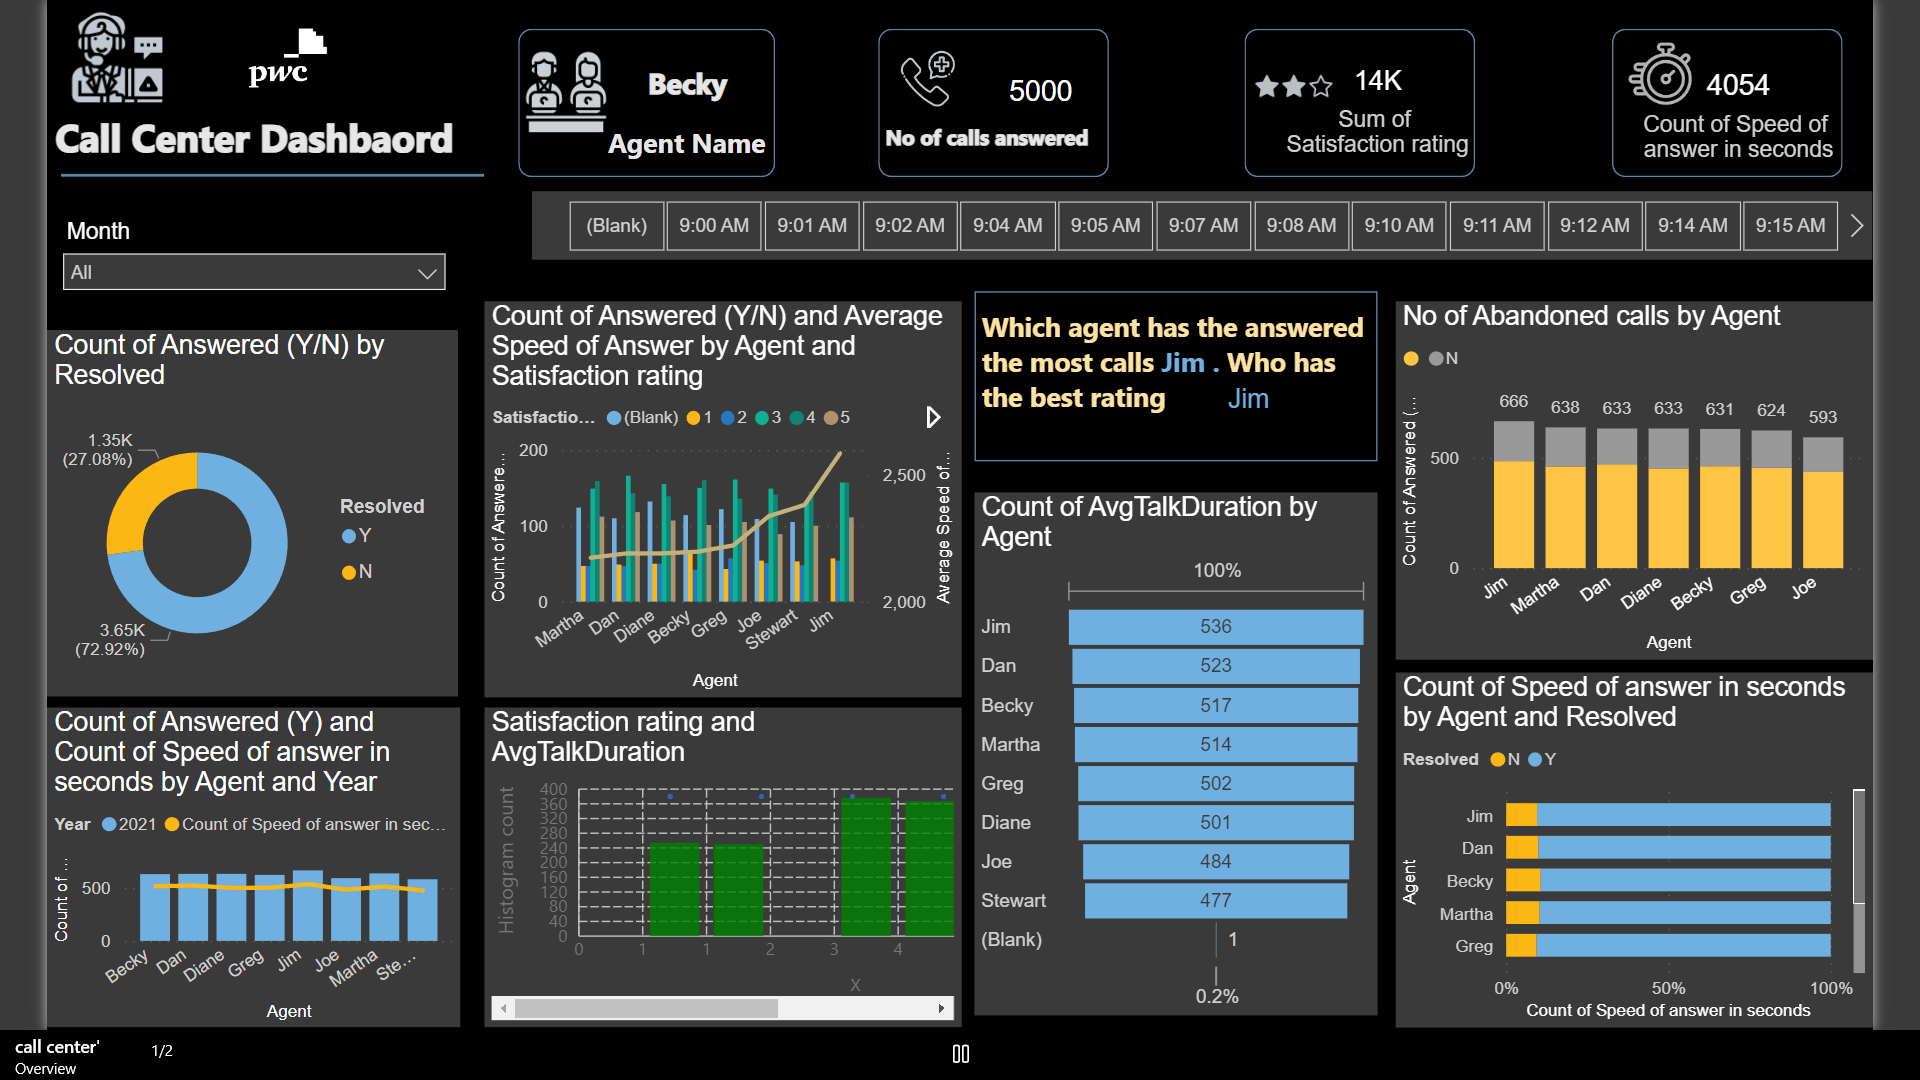

The page's visual inventory and layout, read from the dashboard file:
{"tool":"powerbi","page":{"name":"Overview","canvas":[1280,720],"ordinal":0},"visuals":[{"type":"donutChart","fields":{"Y":["CountNonNull(Sheet1.Answered (Y/N))"],"Category":["Sheet1.Resolved"]},"box":[0,231.6,288.2,256.9],"z":0},{"type":"lineStackedColumnComboChart","fields":{"Category":["Sheet1.Agent"],"Y":["CountNonNull(Sheet1.Answered (Y))"],"Series":["Sheet1.Date.Variation.Date Hierarchy.Year"],"Y2":["CountNonNull(Sheet1.Speed of answer in seconds)"]},"box":[0,495.7,289.4,224.3],"z":1000},{"type":"shape","box":[1096.3,20.5,161.6,103.7],"z":2000},{"type":"shape","box":[330.5,20.5,179.7,103.7],"z":3000},{"type":"shape","box":[582.5,20.5,161.6,103.7],"z":4000},{"type":"shape","box":[839.4,20.5,161.6,103.7],"z":5000},{"type":"card","fields":{"Values":["Min(Sheet1.Agent)"]},"box":[388.3,20.5,121.8,79.6],"z":6000},{"type":"textbox","box":[388.3,82,145.9,42.2],"z":7000},{"type":"image","box":[306.3,28.9,114.6,71.2],"z":8000},{"type":"card","fields":{"Values":["All measures.no of call answered"]},"box":[617.5,13.3,158,103.7],"z":9000},{"type":"image","box":[568,28.9,97.7,51.9],"z":10000},{"type":"textbox","box":[582.5,80.8,177.3,35],"z":11000},{"type":"card","fields":{"Values":["Sum(Sheet1.Satisfaction rating)"]},"box":[863.5,0,137.5,133.9],"z":12000},{"type":"image","box":[839.4,2.4,68.7,115.8],"z":13000},{"type":"card","fields":{"Values":["CountNonNull(Sheet1.Speed of answer in seconds)"]},"box":[1104.7,4.8,161.6,129],"z":14000},{"type":"image","box":[1074.6,22.9,111,57.9],"z":15000},{"type":"slicer","fields":{"Values":["Sheet1.Date.Variation.Date Hierarchy.Month"]},"box":[1.2,148.3,288.2,149.5],"z":16000},{"type":"lineClusteredColumnComboChart","fields":{"Category":["Sheet1.Agent"],"Y":["CountNonNull(Sheet1.Answered (Y/N))"],"Series":["Sheet1.Satisfaction rating"],"Y2":["All measures.Average Speed of Answer"]},"box":[306.3,211.1,334.1,277.4],"z":17000},{"type":"histogramXY6E3D5691159E41859A007A262D4B0E9E","fields":{"yAxis":["Sheet1.AvgTalkDuration"],"xAxis":["Sheet1.Satisfaction rating"]},"box":[306.3,495.7,334.1,224.3],"z":18000},{"type":"lineStackedColumnComboChart","title":"No of Abandoned calls by Agent","fields":{"Category":["Sheet1.Agent"],"Series":["Sheet1.Abandoned calls"],"Y":["CountNonNull(Sheet1.Answered (Y/N))"]},"box":[945.5,211.1,334.1,250.9],"z":19000},{"type":"hundredPercentStackedBarChart","fields":{"Category":["Sheet1.Agent"],"Y":["CountNonNull(Sheet1.Speed of answer in seconds)"],"Series":["Sheet1.Resolved"]},"box":[945.5,471.6,334.1,248.4],"z":20000},{"type":"shape","box":[650.1,203.8,282.2,119.4],"z":21000},{"type":"textbox","box":[650.1,211.1,282.2,218.3],"z":22000},{"type":"textbox","box":[822.5,264.1,282.2,224.3],"z":23000},{"type":"funnel","fields":{"Category":["Sheet1.Agent"],"Y":["CountNonNull(Sheet1.AvgTalkDuration)"]},"box":[650.1,344.9,282.2,366.6],"z":24000},{"type":"textbox","box":[1.2,72.4,300.3,48.2],"z":25000},{"type":"shape","box":[9.6,65.1,296.7,115.8],"z":26000},{"type":"image","box":[9.6,0,79.6,80.8],"z":27000},{"type":"slicer","fields":{"Values":["Sheet1.Time"]},"box":[340.1,133.9,939.5,48.2],"z":28000},{"type":"image","box":[126.6,0,84.4,80.8],"z":29000}]}

Visuals, with their boxes on the page's 1280x720 design canvas (x1, y1, x2, y2). These are canvas units, not pixel positions in the 1920x1080 screenshot, which may show the page scaled, cropped or inside an application window:
donutChart - CountNonNull(Sheet1.Answered (Y/N)) x Sheet1.Resolved: [0, 232, 288, 488]
lineStackedColumnComboChart - Sheet1.Agent x CountNonNull(Sheet1.Answered (Y)): [0, 496, 289, 720]
shape: [1096, 20, 1258, 124]
shape: [330, 20, 510, 124]
shape: [582, 20, 744, 124]
shape: [839, 20, 1001, 124]
card - Min(Sheet1.Agent): [388, 20, 510, 100]
textbox: [388, 82, 534, 124]
image: [306, 29, 421, 100]
card - All measures.no of call answered: [618, 13, 776, 117]
image: [568, 29, 666, 81]
textbox: [582, 81, 760, 116]
card - Sum(Sheet1.Satisfaction rating): [864, 0, 1001, 134]
image: [839, 2, 908, 118]
card - CountNonNull(Sheet1.Speed of answer in seconds): [1105, 5, 1266, 134]
image: [1075, 23, 1186, 81]
slicer - Sheet1.Date.Variation.Date Hierarchy.Month: [1, 148, 289, 298]
lineClusteredColumnComboChart - Sheet1.Agent x CountNonNull(Sheet1.Answered (Y/N)): [306, 211, 640, 488]
histogramXY6E3D5691159E41859A007A262D4B0E9E - Sheet1.AvgTalkDuration x Sheet1.Satisfaction rating: [306, 496, 640, 720]
"No of Abandoned calls by Agent" lineStackedColumnComboChart: [946, 211, 1280, 462]
hundredPercentStackedBarChart - Sheet1.Agent x CountNonNull(Sheet1.Speed of answer in seconds): [946, 472, 1280, 720]
shape: [650, 204, 932, 323]
textbox: [650, 211, 932, 429]
textbox: [822, 264, 1105, 488]
funnel - Sheet1.Agent x CountNonNull(Sheet1.AvgTalkDuration): [650, 345, 932, 712]
textbox: [1, 72, 302, 121]
shape: [10, 65, 306, 181]
image: [10, 0, 89, 81]
slicer - Sheet1.Time: [340, 134, 1280, 182]
image: [127, 0, 211, 81]
